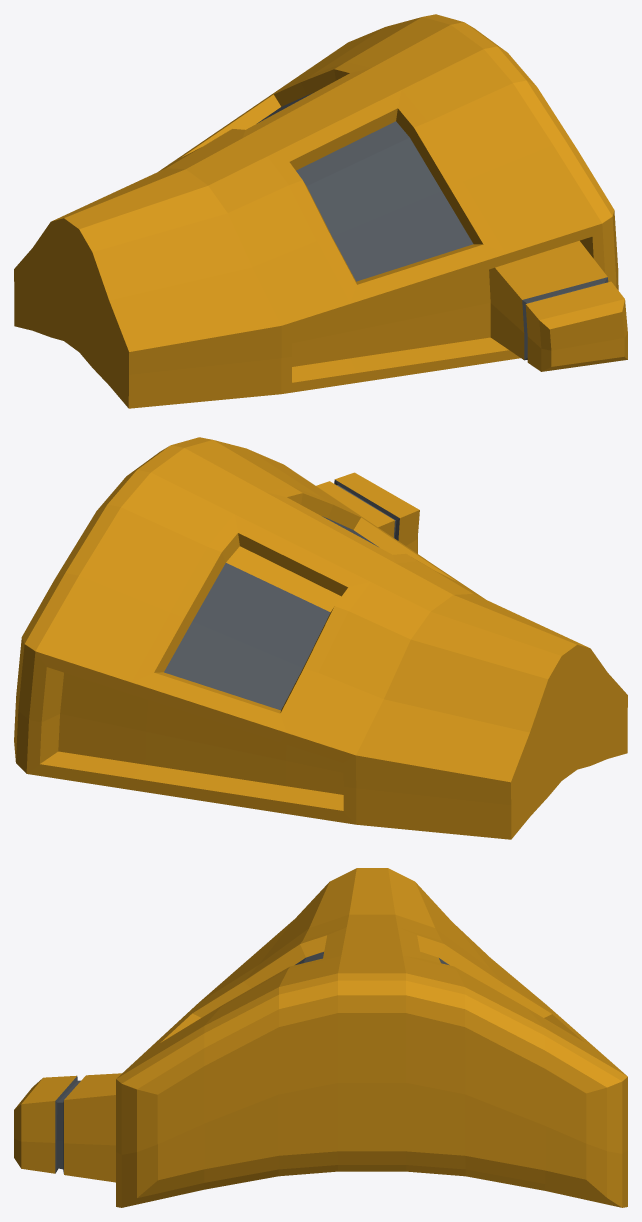
Rendered from Fighter_05_Side_Mount_Right_Yellow.fbx.
3 views of the same model, one above another, from view 1: azimuth 30°, elevation 25°; view 2: azimuth 150°, elevation 25°; view 3: azimuth 270°, elevation 25° (orthographic). The views are drawn at different scales.
Visible parts, largest first — view 1: Fighter_05_Side_Mount_Right_Yellow; view 2: Fighter_05_Side_Mount_Right_Yellow; view 3: Fighter_05_Side_Mount_Right_Yellow.
Part boxes in pixels (x1,y1,x2,y2): Fighter_05_Side_Mount_Right_Yellow: (14, 14, 627, 408); Fighter_05_Side_Mount_Right_Yellow: (14, 437, 627, 839); Fighter_05_Side_Mount_Right_Yellow: (14, 868, 627, 1207).
Bounding box in the file's own units: 402 × 206 × 477.
Materials: 2 (2 with a texture image).
